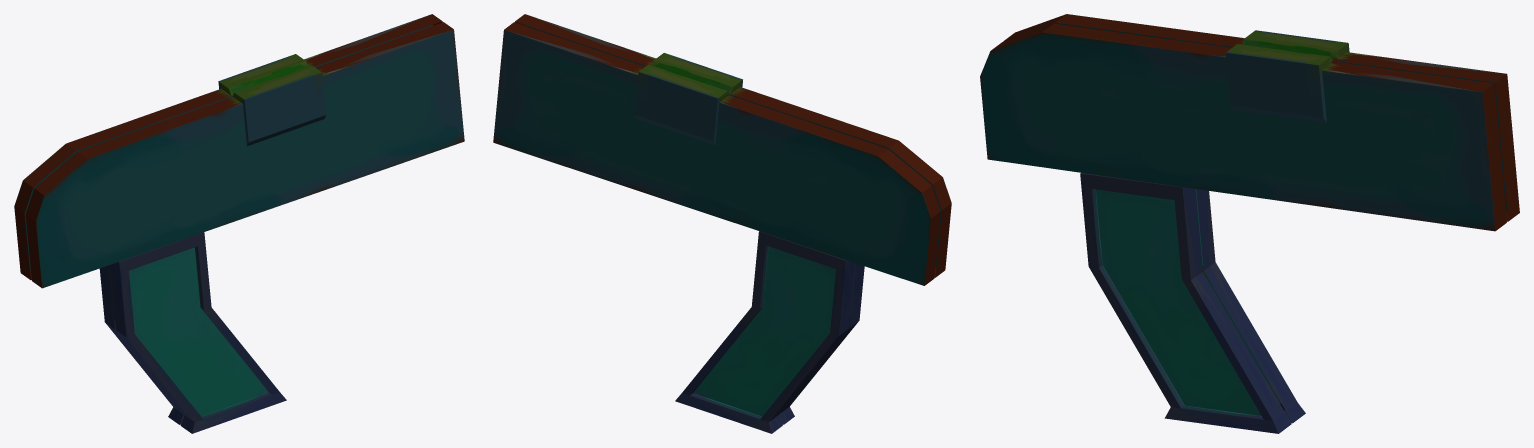
Rendered from gun.fbx.
3 views of the same model, side by side, from view 1: azimuth 30°, elevation 25°; view 2: azimuth 150°, elevation 25°; view 3: azimuth 330°, elevation 25° (orthographic). The views are drawn at different scales.
Visible parts, largest first — view 1: Cube; view 2: Cube; view 3: Cube.
Part boxes in pixels (x1,y1,x2,y2): Cube: [14, 14, 464, 433]; Cube: [493, 14, 951, 433]; Cube: [980, 14, 1519, 433].
Bounding box in the file's own units: 848 × 633 × 89.51.
Materials: 1 (1 with a texture image).
